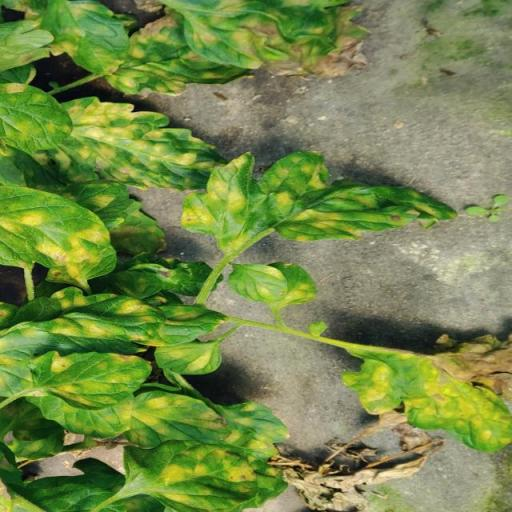disease_tomato: (181, 152, 459, 254), (338, 334, 512, 454), (29, 96, 230, 191), (122, 401, 288, 512), (0, 286, 167, 396), (156, 0, 372, 78), (104, 15, 255, 97), (0, 185, 110, 268), (30, 350, 154, 410), (38, 0, 130, 76), (123, 390, 231, 448), (0, 78, 73, 156), (227, 260, 289, 308), (154, 338, 224, 376)
